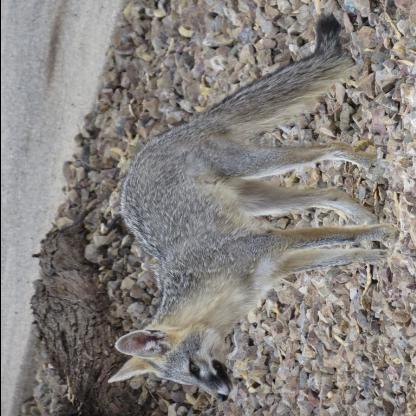zorro: (100, 8, 400, 402)
